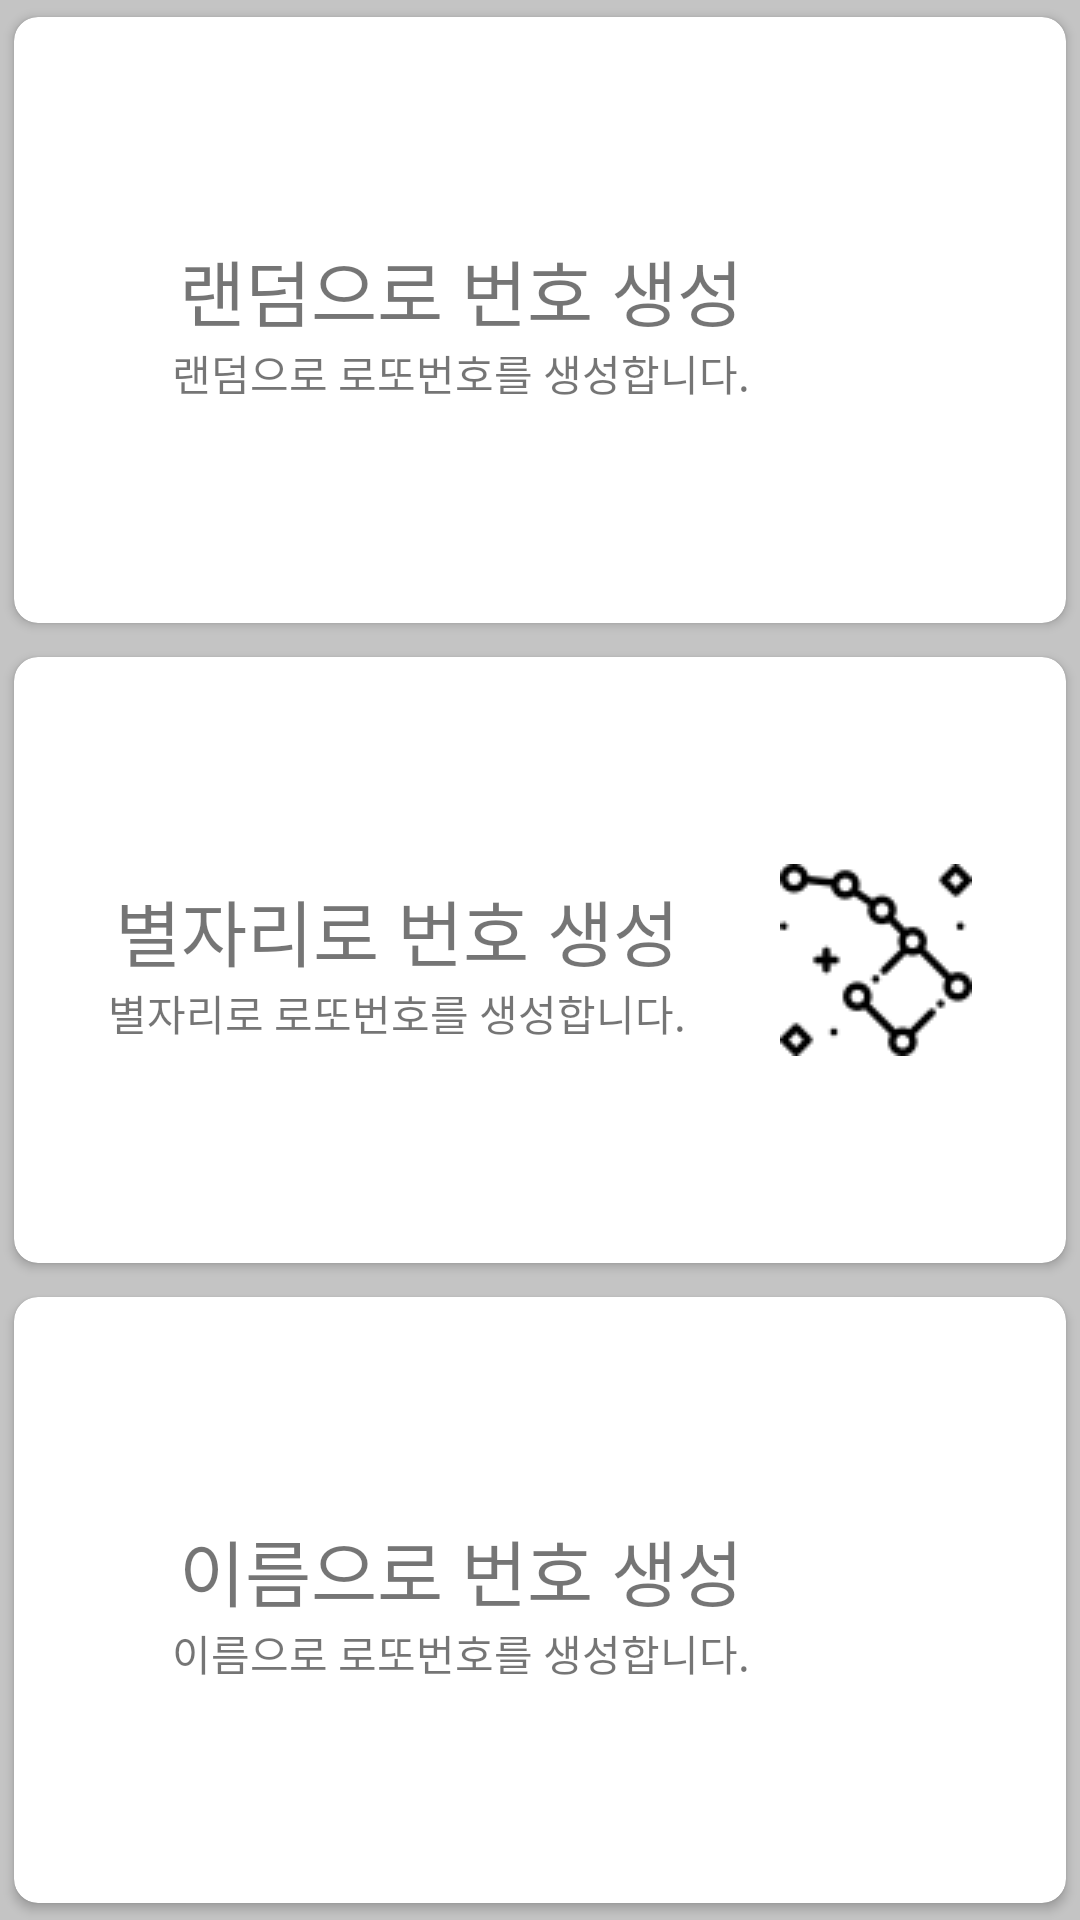

Named icons in this screenshot (1080 × 1920) and their bounding boxes, (x1, y1, x2, y2):
constellation: (780, 864, 972, 1056)
